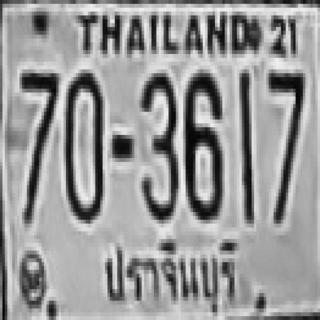N00: (64, 69, 102, 220)
N01: (238, 67, 253, 222)
N03: (139, 71, 176, 218)
N06: (183, 70, 220, 216)
N07: (266, 69, 303, 220), (19, 71, 56, 222), (19, 69, 56, 185), (266, 69, 303, 181)
P49: (97, 235, 239, 316)
